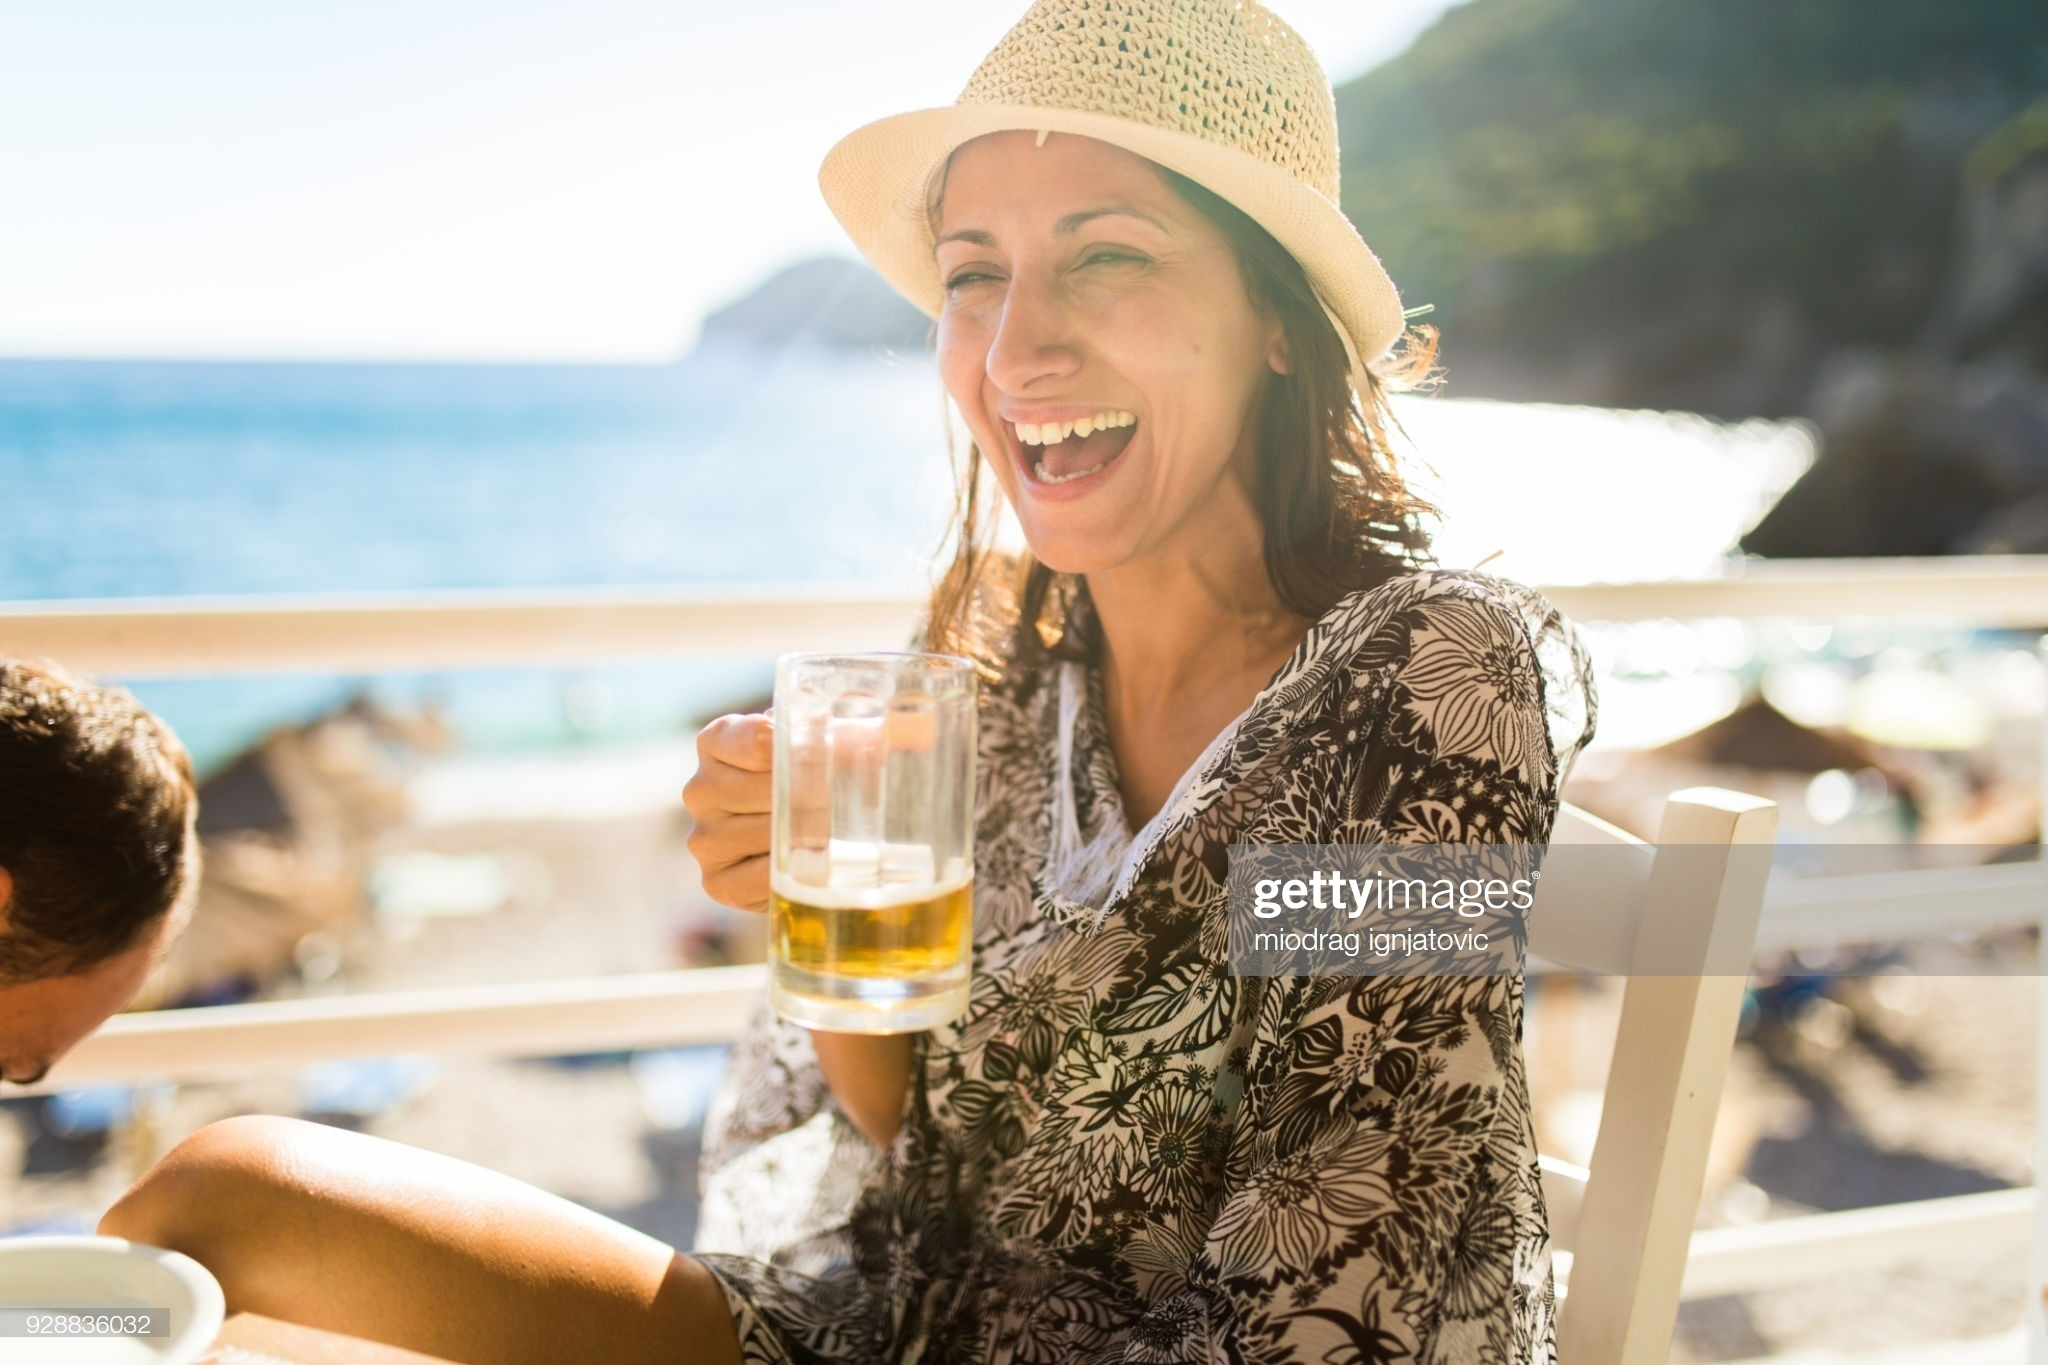whiskey: (769, 651, 967, 1024)
